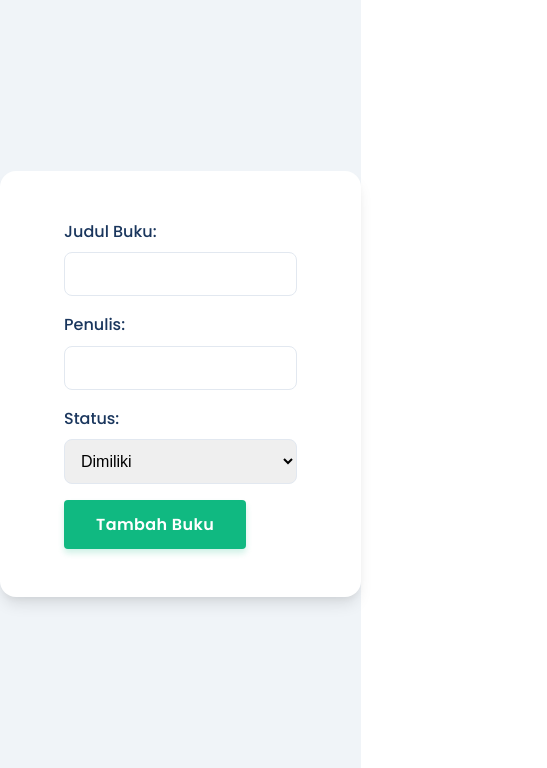
BookForm › shows validation errors for empty fields
Click the button "Tambah Buku" at coordinates (155, 525), box [64, 500, 246, 549]
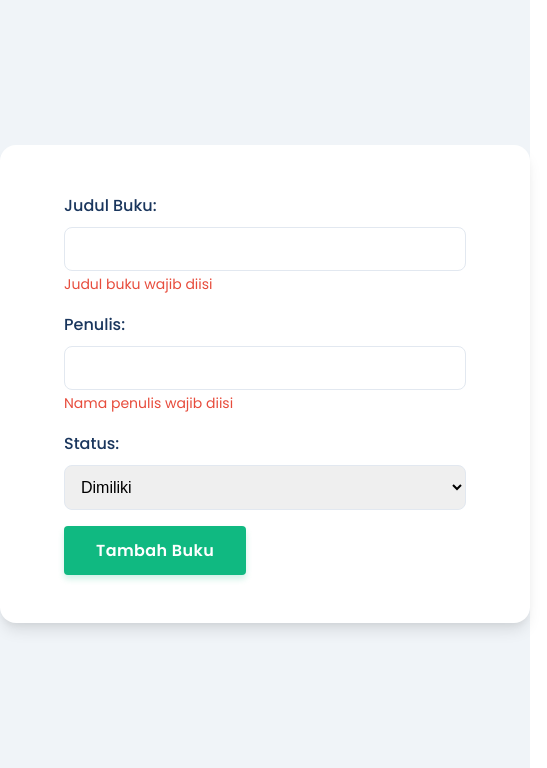
Expected: the text "Judul buku wajib diisi" is shown, [64, 274, 212, 294]
Expected: the text "Nama penulis wajib diisi" is shown, [64, 393, 233, 413]
